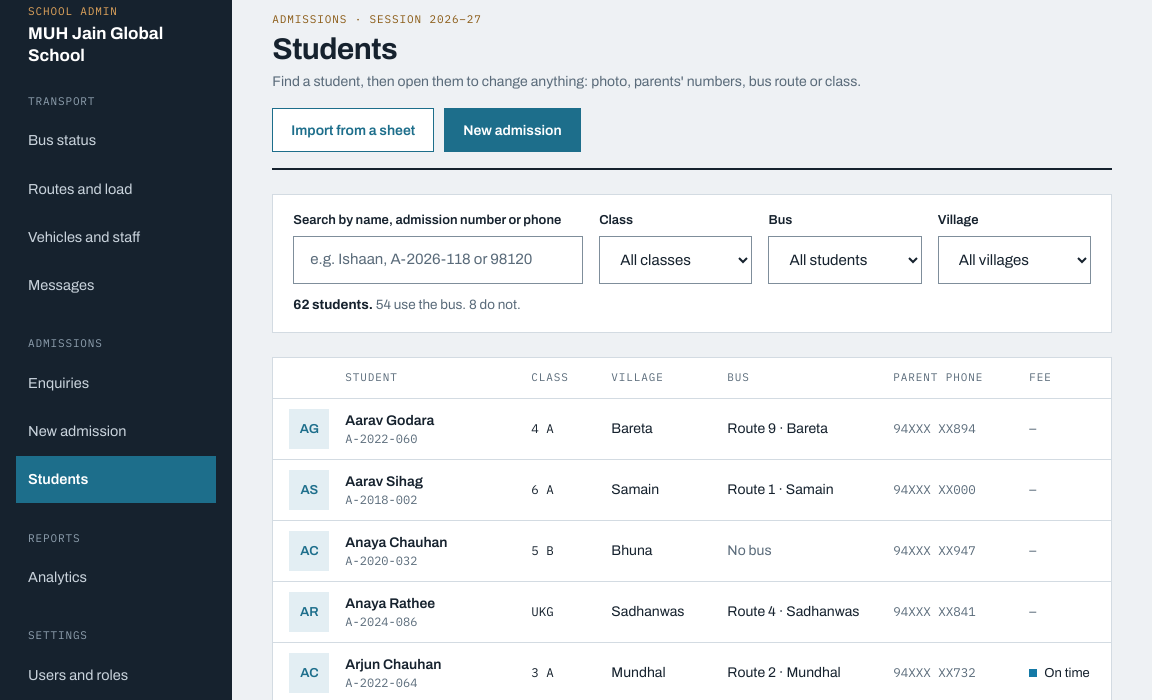
Test case: Students page › filters by one route from the Bus list
The image size is (1152, 700).
Select "Route 4" in the dropdown labelled "Bus": [845, 260] box left=768, top=236, right=922, bottom=284
(page scrolled)
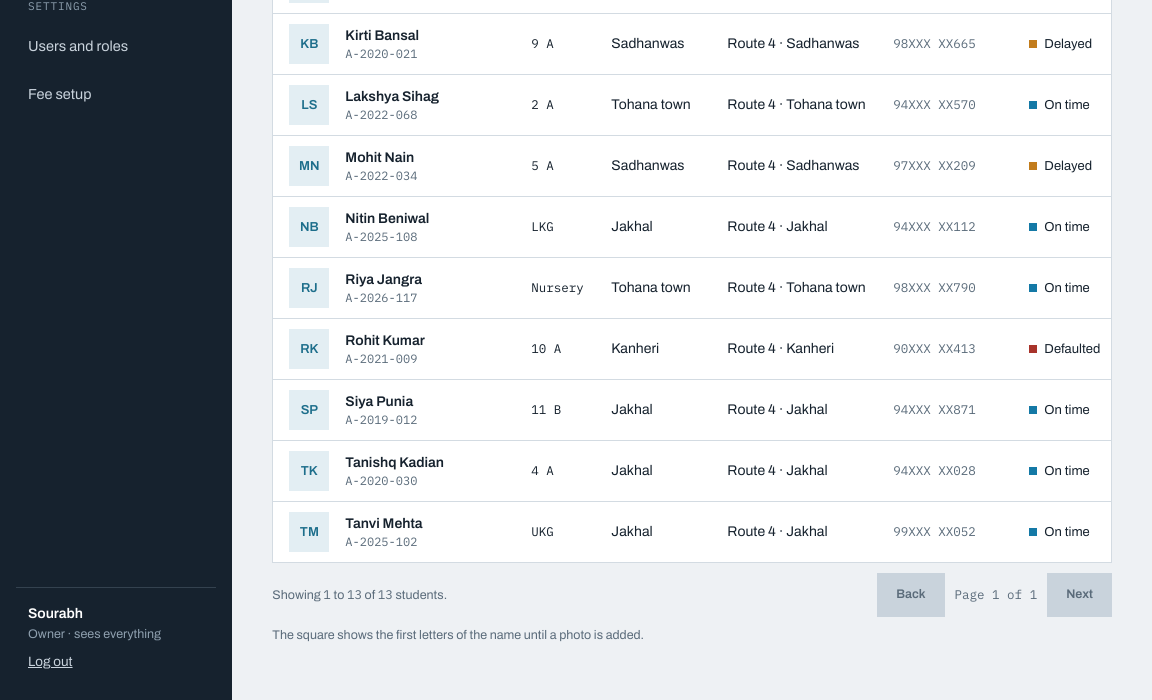
Expected: the text "Route 4 · Tohana town" in the row of "LS" is shown, left=727, top=97, right=866, bottom=112
Expected: the text "Route 4 · Sadhanwas" in the row of "MN" is shown, left=727, top=158, right=860, bottom=173
Expected: the text "Route 4 · Jakhal" in the row of "NB" is shown, left=727, top=219, right=828, bottom=234
